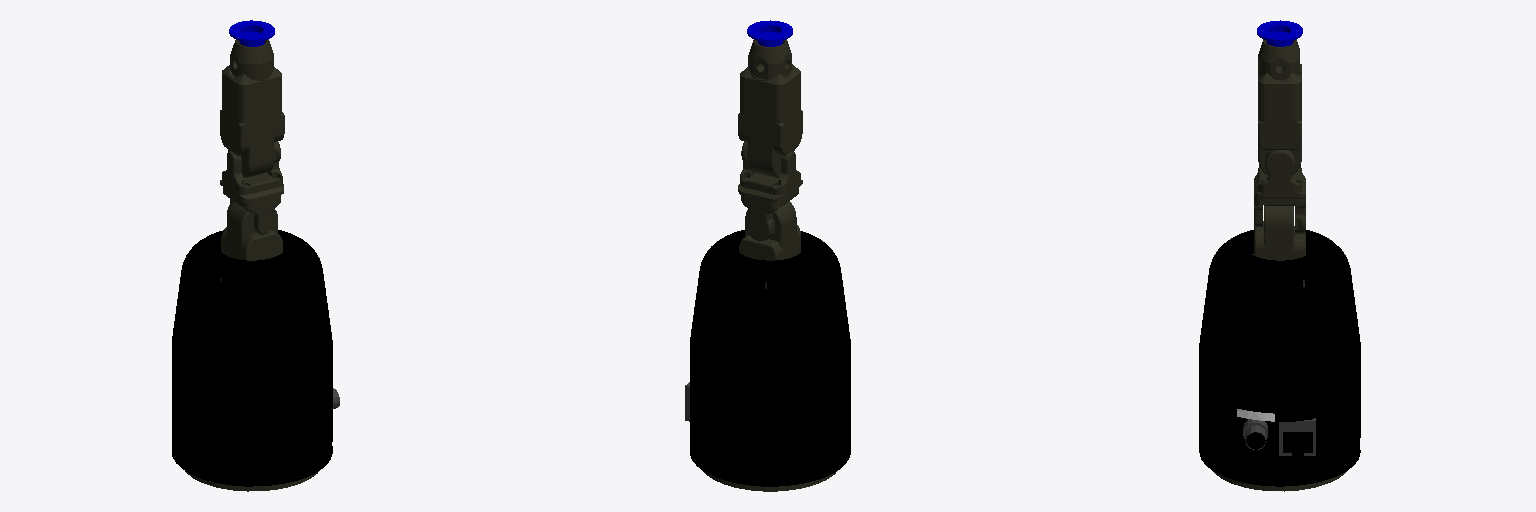
robot.urdf — dg1fm:
<?xml version="1.0" encoding="utf-8"?>
<robot name="dg1fm">
  <link name="link_base">
    <inertial>
      <origin xyz="-0.00035383 0.00048155 0.043435" rpy="0 0 0" />
      <mass value="0.2993" />
      <inertia
        ixx="0.00029548"
        ixy="-3.3706E-07"
        ixz="-1.8734E-06"
        iyy="0.00029119"
        iyz="-4.1306E-06"
        izz="0.00018378" />
    </inertial>
    <visual>
      <origin xyz="0 0 0" rpy="0 0 0" />
      <geometry>
        <mesh filename="package://meshes/link_base.dae" />
      </geometry>
    </visual>
    <collision>
      <origin xyz="0 0 0" rpy="0 0 0" />
      <geometry>
        <mesh filename="package://meshes/link_base.STL" />
      </geometry>
    </collision>
  </link>
  <link name="link_1">
    <inertial>
      <origin xyz="0.004005 4.7057E-09 0.019986" rpy="0 0 0" />
      <mass value="0.018789" />
      <inertia
        ixx="4.9198E-06"
        ixy="-1.1162E-12"
        ixz="1.0825E-06"
        iyy="5.5838E-06"
        iyz="4.0117E-12"
        izz="1.6825E-06" />
    </inertial>
    <visual>
      <origin xyz="0 0 0" rpy="0 0 0" />
      <geometry>
        <mesh filename="package://meshes/link_1.dae" />
      </geometry>
    </visual>
    <collision>
      <origin xyz="0 0 0" rpy="0 0 0" />
      <geometry>
        <mesh filename="package://meshes/link_1.STL" />
      </geometry>
    </collision>
  </link>
  <joint name="joint_1" type="revolute">
    <origin xyz="0 0 0.0759" rpy="0 0 -1.5708" />
    <parent link="link_base" />
    <child link="link_1" />
    <axis xyz="0 0 1" />
    <limit lower="-1.5708" upper="1.5708" effort="2.0" velocity="7.853981633974483" />
  </joint>
  <link name="link_2">
    <inertial>
      <origin xyz="0.0155000003125045 -0.000528670576780736 -0.000528670570520943" rpy="0 0 0" />
      <mass value="0.00707852203534508" />
      <inertia
        ixx="5.44061564308027E-07"
        ixy="5.81070230810225E-08"
        ixz="-5.81070576442084E-08"
        iyy="7.62849074749996E-07"
        iyz="1.97829450711163E-09"
        izz="7.62848943608982E-07" />
    </inertial>
    <visual>
      <origin xyz="0 0 0" rpy="0 0 0" />
      <geometry>
        <mesh filename="package://meshes/link_2.dae" />
      </geometry>
    </visual>
    <collision>
      <origin xyz="0 0 0" rpy="0 0 0" />
      <geometry>
        <mesh filename="package://meshes/link_2.STL" />
      </geometry>
    </collision>
  </link>
  <joint name="joint_2" type="revolute">
    <origin xyz="0 0 0.0405" rpy="3.1416 -1.5708 0" />
    <parent link="link_1" />
    <child link="link_2" />
    <axis xyz="0 0 1" />
    <limit lower="-1.5708" upper="1.5708" effort="2.0" velocity="7.853981633974483" />
  </joint>
  <link name="link_3">
    <inertial>
      <origin xyz="0.0141447750597297 1.28887688388465E-08 0.000258208263355763" rpy="0 0 0" />
      <mass value="0.0142072676779686" />
      <inertia
        ixx="8.95484342099783E-07"
        ixy="4.06749415815464E-12"
        ixz="4.20411127069288E-08"
        iyy="2.15225456121726E-06"
        iyz="3.34439539826628E-13"
        izz="2.06078021583508E-06" />
    </inertial>
    <visual>
      <origin xyz="0 0 0" rpy="0 0 0" />
      <geometry>
        <mesh filename="package://meshes/link_3.dae" />
      </geometry>
    </visual>
    <collision>
      <origin xyz="0 0 0" rpy="0 0 0" />
      <geometry>
        <mesh filename="package://meshes/link_3.STL" />
      </geometry>
    </collision>
  </link>
  <joint name="joint_3" type="revolute">
    <origin xyz="0.031 0 0" rpy="-1.5708 0 0" />
    <parent link="link_2" />
    <child link="link_3" />
    <axis xyz="0 0 1" />
    <limit lower="-1.5708" upper="1.5708" effort="2.0" velocity="7.853981633974483" />
  </joint>
  <link name="link_tip">
    <inertial>
      <origin xyz="-0.0167267493055147 2.6432727163973E-09 0.000116174390191483" rpy="0 0 0" />
      <mass value="0.00707478436649308" />
      <inertia
        ixx="3.91812042214186E-07"
        ixy="-1.60181525033047E-13"
        ixz="-3.68122867085625E-09"
        iyy="3.79433494120456E-07"
        iyz="-8.59393541030955E-13"
        izz="4.11449023637735E-07" />
    </inertial>
    <visual>
      <origin xyz="0 0 0" rpy="0 0 0" />
      <geometry>
        <mesh filename="package://meshes/link_tip.dae" />
      </geometry>
    </visual>
    <collision>
      <origin xyz="0 0 0" rpy="0 0 0" />
      <geometry>
        <mesh filename="package://meshes/link_tip.STL" />
      </geometry>
    </collision>
  </link>
  <joint name="joint_tip" type="fixed">
    <origin xyz="0.0593 0 0" rpy="1.5708 0 0" />
    <parent link="link_3" />
    <child link="link_tip" />
    <axis xyz="0 0 0" />
  </joint>
</robot>

--- Render facts (derived) ---
Views: 3 orthographic renders of the robot side by side, from view 1: azimuth 30°, elevation 25°; view 2: azimuth 150°, elevation 25°; view 3: azimuth 270°, elevation 25°.
Model dg1fm with 5 links and 4 joints (3 revolute, 1 fixed), rooted at link_base, posed every joint at zero.
Links seen in each view (by area): view 1: link_base, link_3, link_tip, link_2, link_1; view 2: link_base, link_3, link_tip, link_2, link_1; view 3: link_base, link_tip, link_2, link_3, link_1.
Link boxes in pixels (box(x1,y1,x2,y2)): link_base: box(172, 230, 339, 491); link_3: box(220, 87, 284, 177); link_tip: box(222, 20, 281, 99); link_2: box(220, 142, 283, 234); link_1: box(221, 202, 282, 260); link_base: box(685, 230, 850, 491); link_3: box(738, 87, 802, 177); link_tip: box(740, 20, 800, 99); link_2: box(738, 141, 802, 240); link_1: box(739, 201, 800, 288); link_base: box(1199, 230, 1360, 491); link_tip: box(1257, 20, 1302, 97); link_2: box(1254, 150, 1305, 233); link_3: box(1258, 96, 1301, 174); link_1: box(1252, 205, 1305, 285).
Size in the robot's own frame: 0.0705 by 0.07 by 0.2067 metres.
Meshes: 5 distinct files referenced, 5 mesh visuals loaded (5 Collada DAE).
